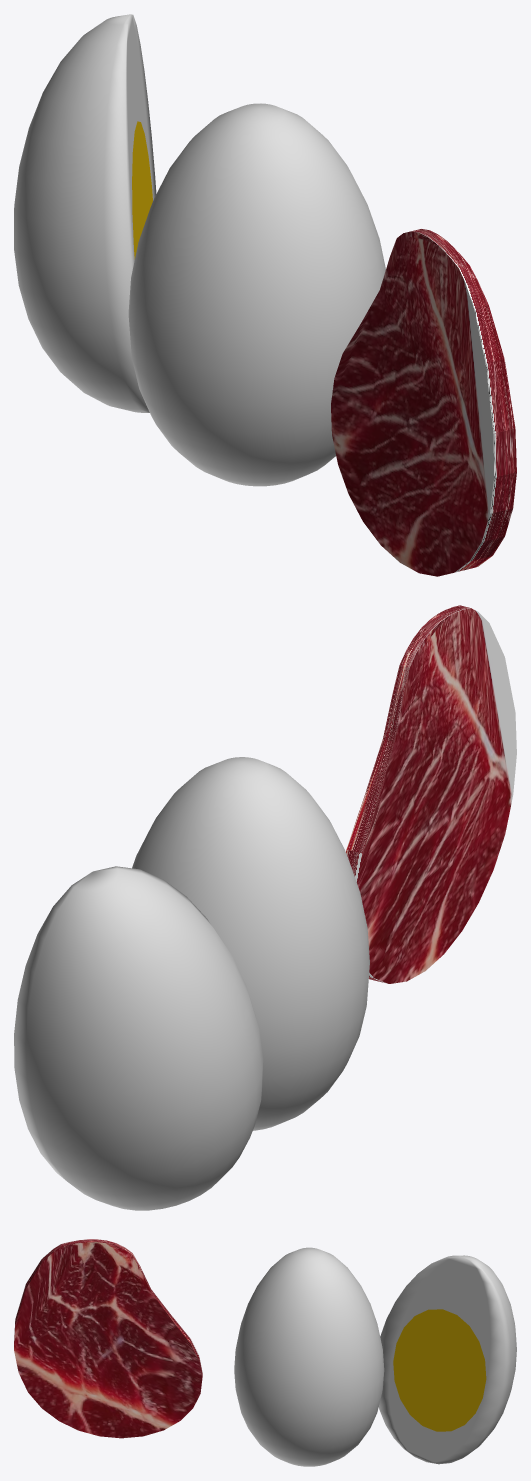
The model's file is meat eggs.gltf.
The picture shows the model from 3 angles, top to bottom: view 1: azimuth 30°, elevation 25°; view 2: azimuth 150°, elevation 25°; view 3: azimuth 270°, elevation 25°; orthographic projection. The views are drawn at different scales.
Parts seen in each view (by area): view 1: egg; view 2: egg; view 3: egg.
Part boxes in pixels (left/top/right/bottom): egg: left=14, top=14, right=516, bottom=576; egg: left=14, top=605, right=516, bottom=1210; egg: left=14, top=1239, right=516, bottom=1466.
Bounding box in the file's own units: 0.9379 × 1.49 × 3.12.
3 materials, 1 textured.
